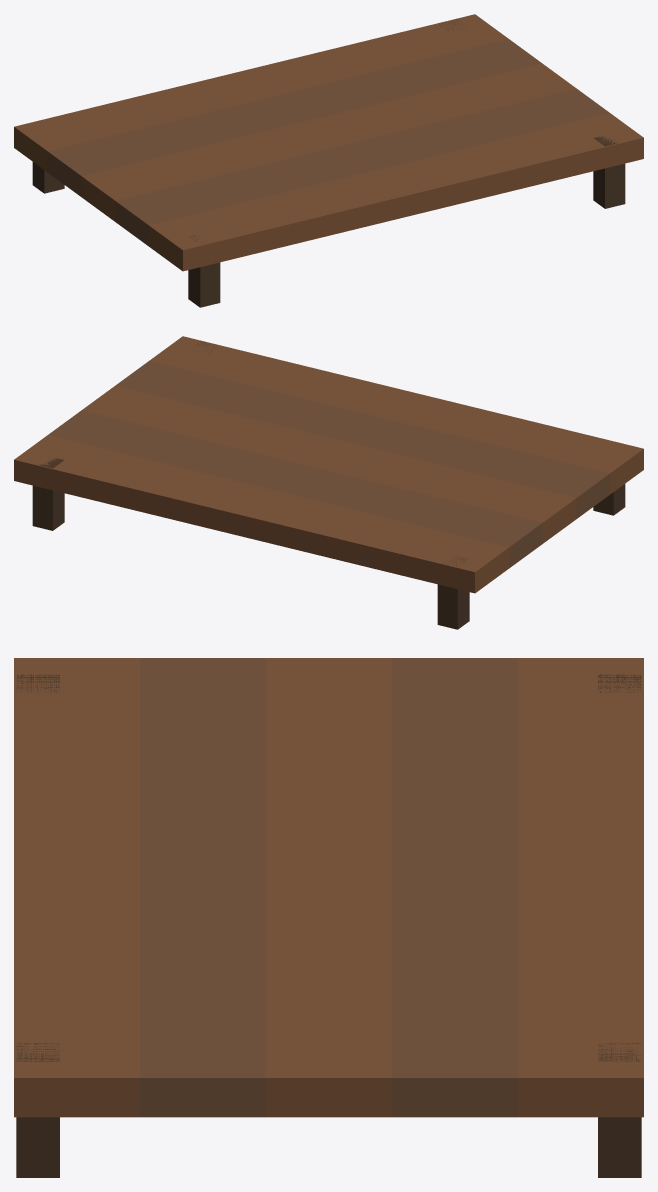
The model's file is riverside_platform.glb.
3 views of the same model, one above another, from view 1: azimuth 30°, elevation 25°; view 2: azimuth 150°, elevation 25°; view 3: azimuth 270°, elevation 25° (orthographic). The views are drawn at different scales.
Parts seen in each view (by area): view 1: riverside_platform_LOD0; view 2: riverside_platform_LOD0; view 3: riverside_platform_LOD0.
Part boxes in pixels (box(x1,y1,x2,y2)): riverside_platform_LOD0: box(14, 14, 643, 307); riverside_platform_LOD0: box(14, 336, 643, 629); riverside_platform_LOD0: box(14, 658, 643, 1177).
Size of what is drawn, in the model's own units: 4.1 by 0.53 by 2.6.
